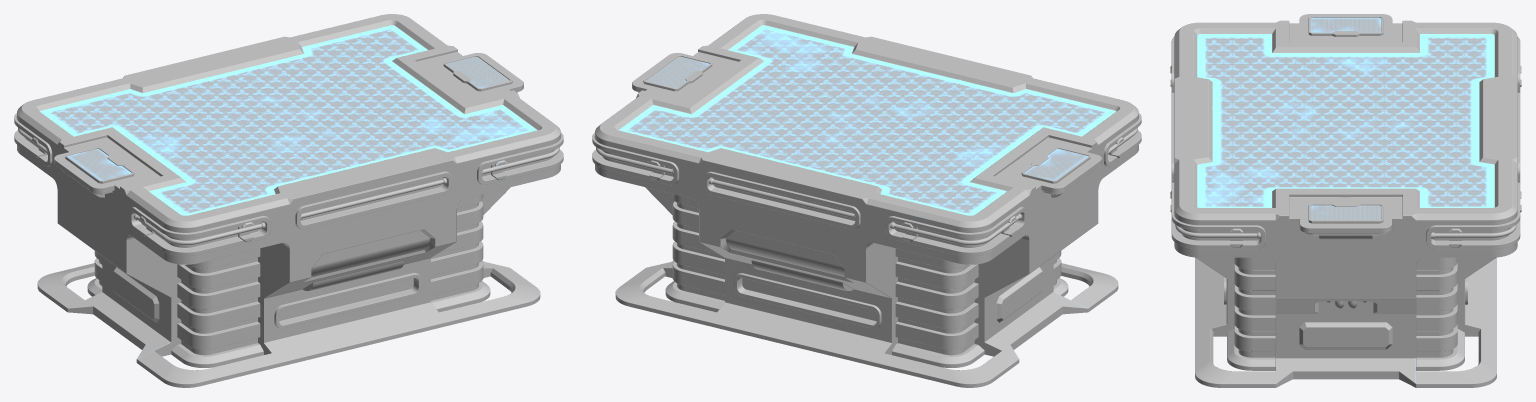
The model's file is SM_Table_Screen_table.fbx.
The picture shows the model from 3 angles, left to right: view 1: azimuth 30°, elevation 25°; view 2: azimuth 150°, elevation 25°; view 3: azimuth 270°, elevation 25°; orthographic projection.
Visible parts, largest first — view 1: SM_Table_Screen_table_LOD0; view 2: SM_Table_Screen_table_LOD0; view 3: SM_Table_Screen_table_LOD0.
Part boxes in pixels (box(x1,y1,x2,y2)): SM_Table_Screen_table_LOD0: box(14, 14, 563, 387); SM_Table_Screen_table_LOD0: box(592, 14, 1141, 387); SM_Table_Screen_table_LOD0: box(1170, 14, 1521, 387).
Bounding box in the file's own units: 195 × 135 × 75.24.
